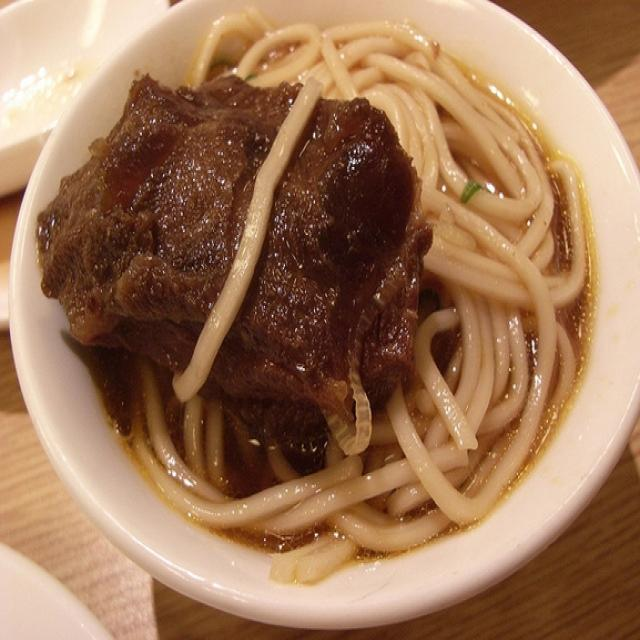面条主食: (13, 10, 628, 608)
